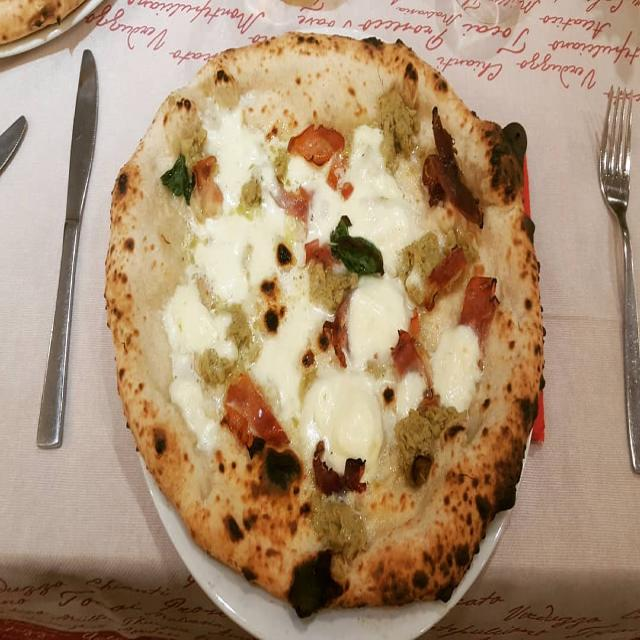basil: (330, 214, 383, 275), (161, 153, 195, 204)
pizza: (106, 34, 545, 616)
